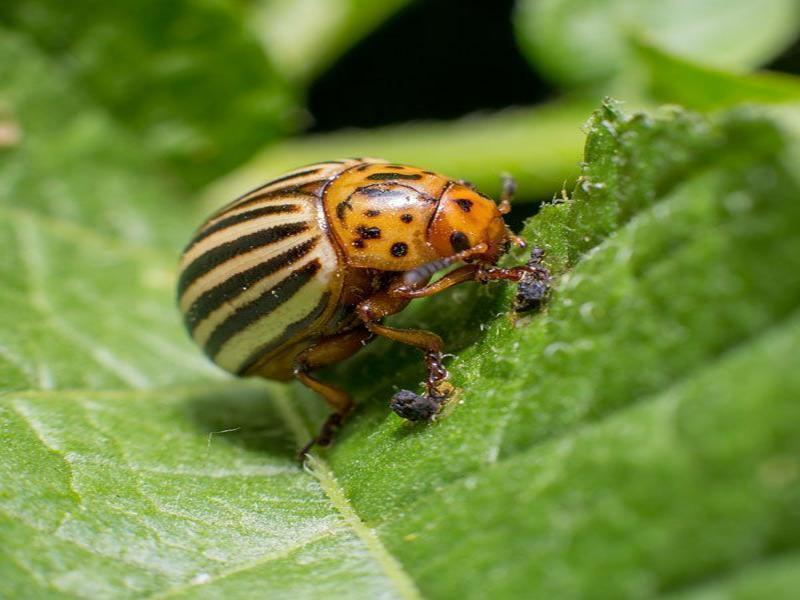hrosc: (158, 147, 540, 425)
